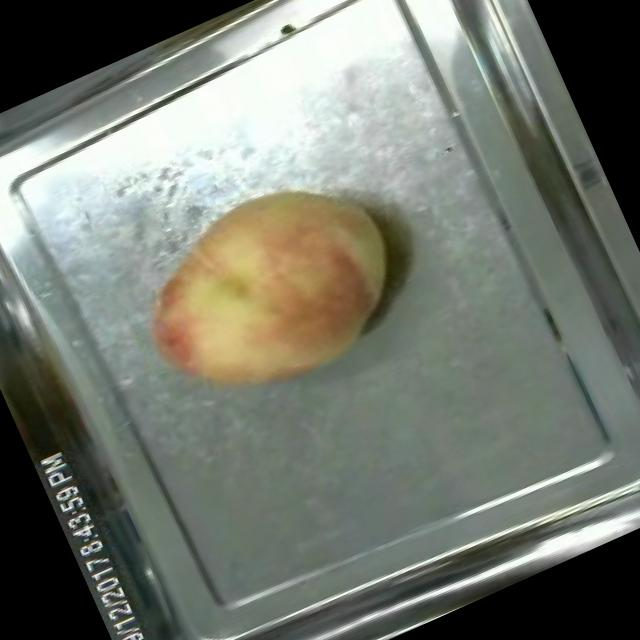Fruit: (107, 142, 432, 436)
